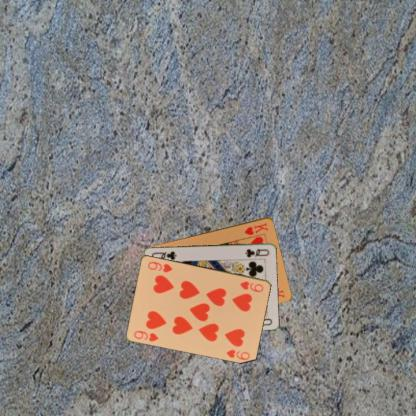9h: (237, 278, 264, 294), (131, 328, 160, 342)
Kh: (242, 220, 269, 236)
Qc: (243, 246, 270, 258)
